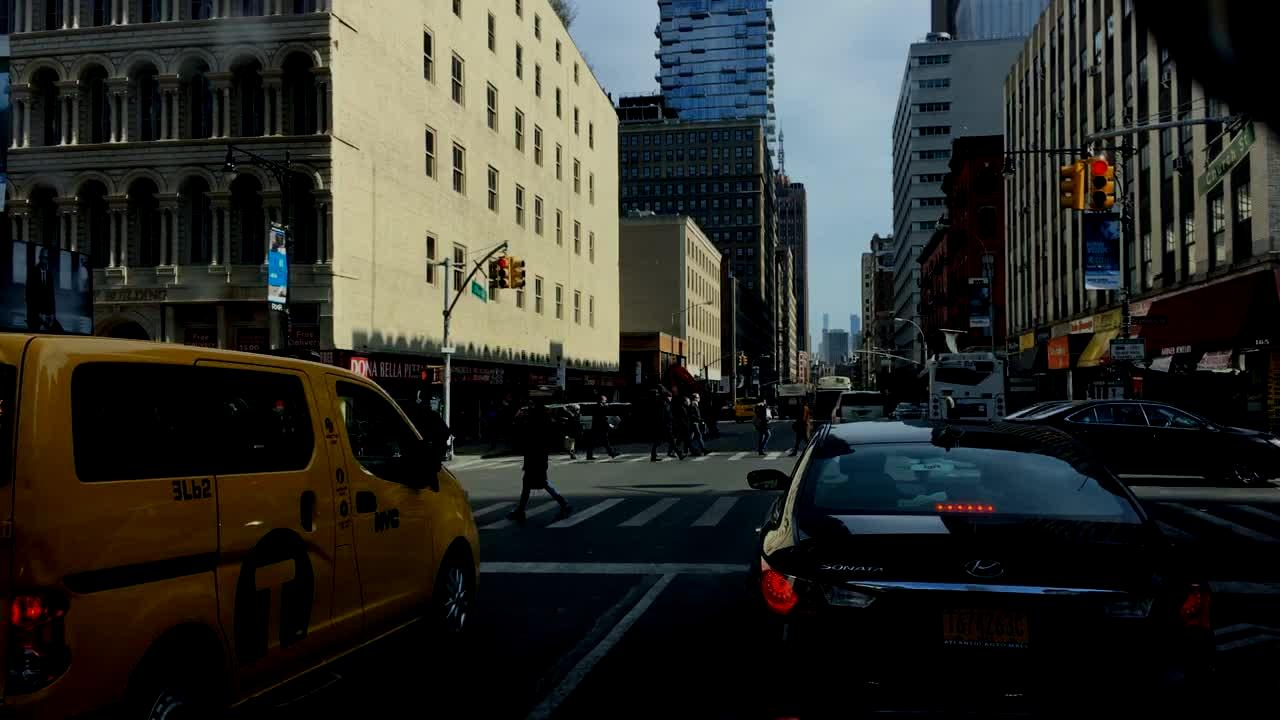Hyundai: (958, 552, 1009, 582)
